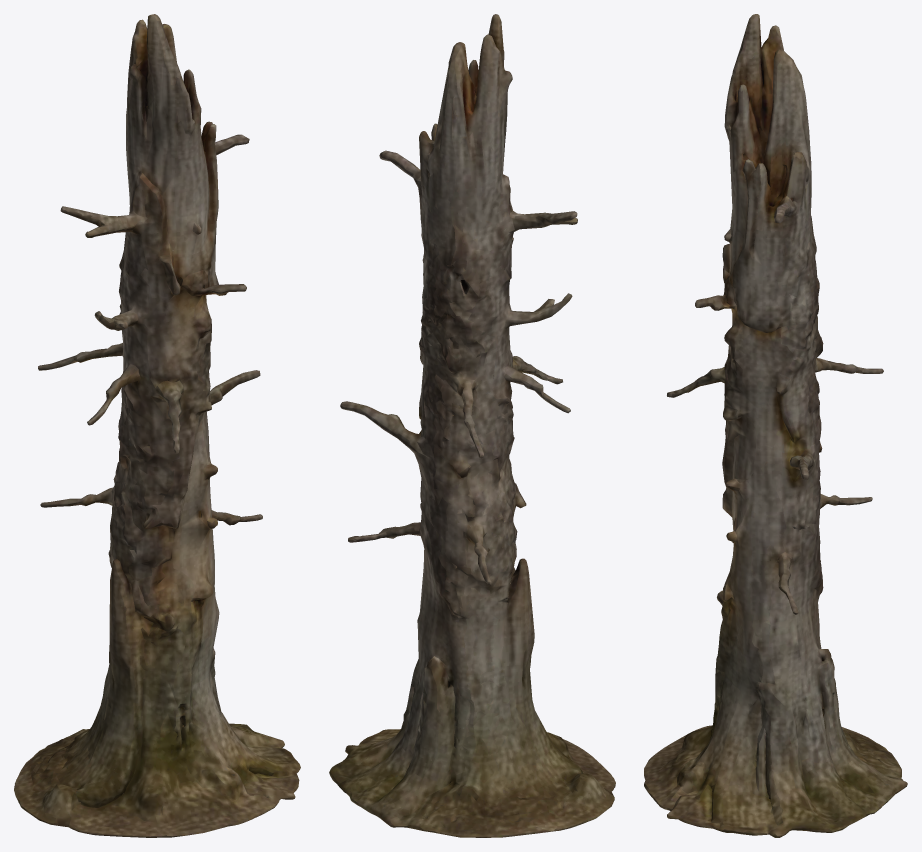
The model's file is r7-snag.glb.
3 views of the same model, side by side, from view 1: azimuth 30°, elevation 25°; view 2: azimuth 150°, elevation 25°; view 3: azimuth 270°, elevation 25° (orthographic). The views are drawn at different scales.
Parts seen in each view (by area): view 1: geometry_0; view 2: geometry_0; view 3: geometry_0.
Part boxes in pixels (x1,y1,x2,y2): geometry_0: (14,14,300,837); geometry_0: (329,14,615,837); geometry_0: (644,14,907,837).
Bounding box in the file's own units: 0.8706 × 2.5 × 0.7865.
Materials: 1 (1 with a texture image).
